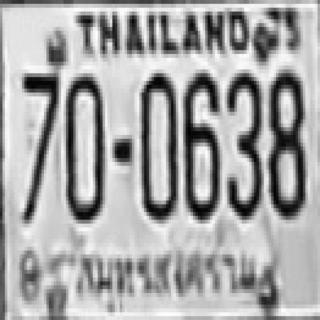N00: (64, 69, 102, 220), (139, 70, 176, 216)
N03: (225, 70, 259, 216)
N06: (181, 70, 217, 216)
N07: (20, 69, 58, 220), (20, 69, 58, 181)
N08: (266, 66, 303, 216)
P59: (74, 248, 262, 300)
